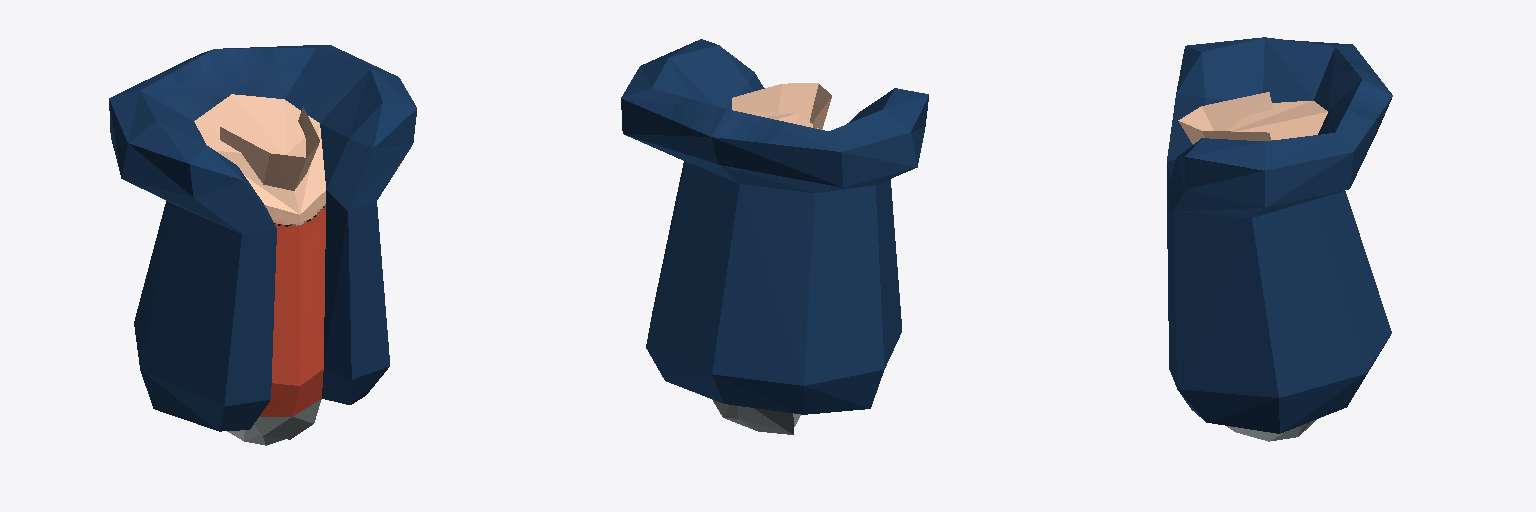
3 renders of one model, left to right at view 1: azimuth 30°, elevation 25°; view 2: azimuth 150°, elevation 25°; view 3: azimuth 270°, elevation 25°, orthographic.
Visible parts, largest first — view 1: torsoDipper; view 2: torsoDipper; view 3: torsoDipper.
Part boxes in pixels (bbox=[...]): torsoDipper: bbox=[109, 45, 416, 445]; torsoDipper: bbox=[621, 39, 928, 434]; torsoDipper: bbox=[1167, 37, 1392, 441].
Size of the model in its own units: 0.6797 by 0.8095 by 0.4692.
1 materials, 1 textured.